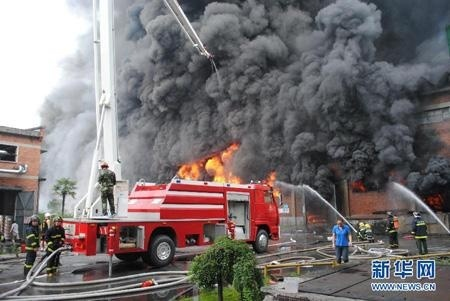fire: (178, 141, 241, 183)
